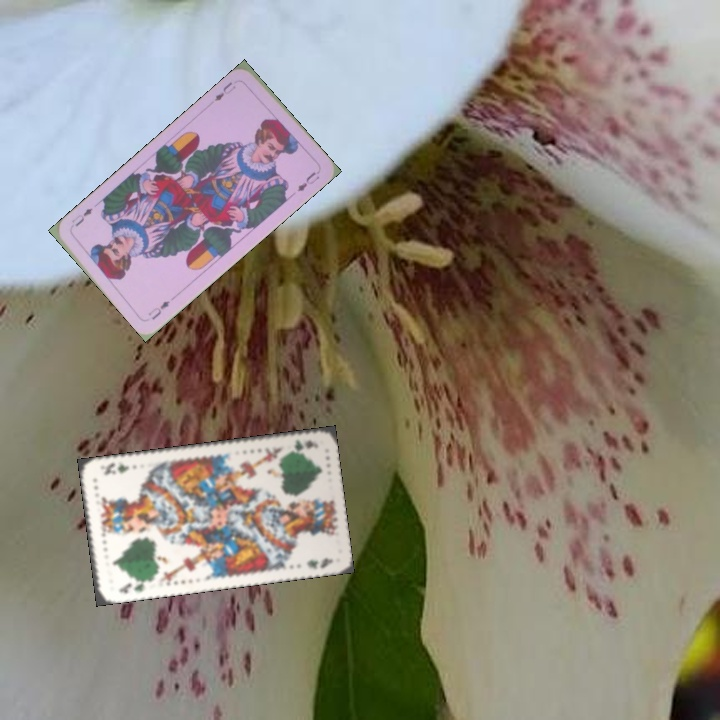EU: (210, 78, 238, 104), (144, 297, 172, 323)
GK: (283, 436, 321, 455), (115, 576, 149, 596)
